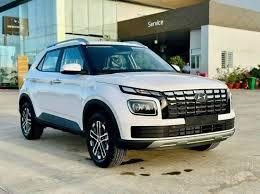hyundai: (188, 91, 212, 106)
